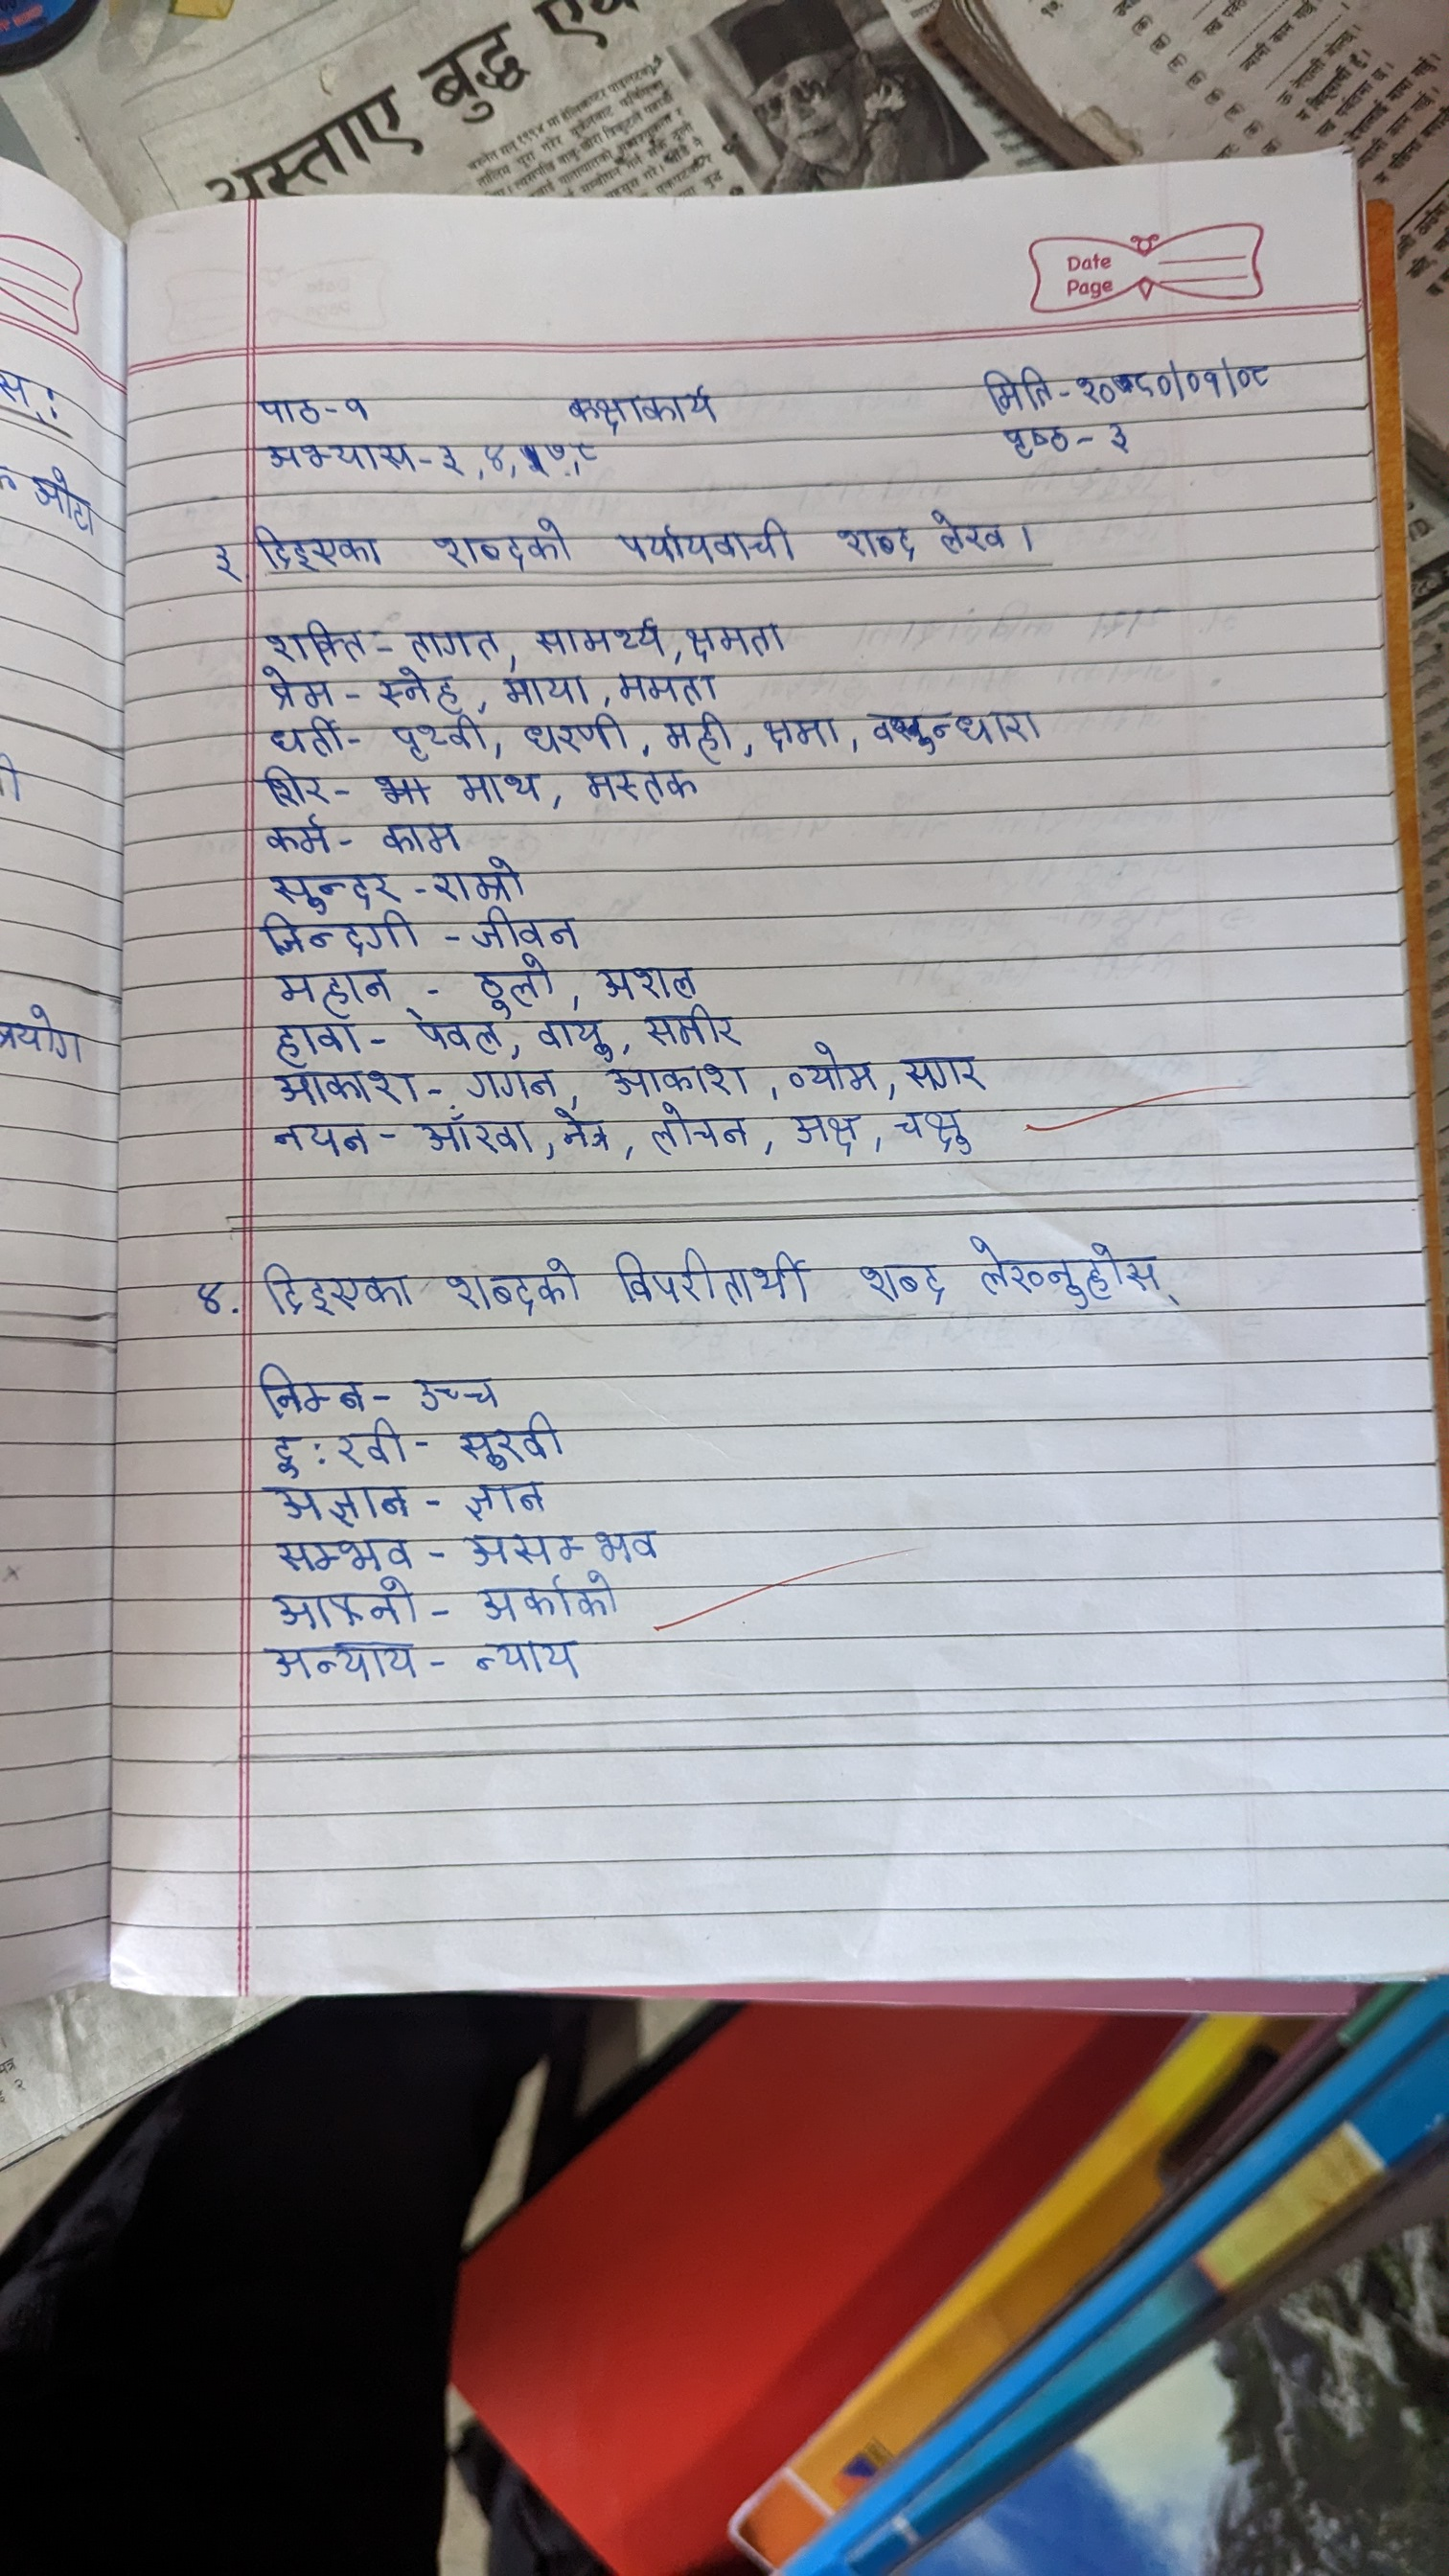text: (964, 1233, 1191, 1306), (605, 1247, 812, 1309), (860, 704, 1054, 757), (607, 517, 800, 566), (556, 382, 731, 435), (257, 1260, 412, 1318), (430, 517, 580, 575), (444, 1258, 584, 1318), (258, 1638, 425, 1688), (474, 1569, 621, 1624), (458, 1529, 663, 1568), (255, 524, 398, 579), (267, 1422, 407, 1476), (251, 913, 425, 955), (265, 1582, 421, 1628), (262, 442, 421, 487), (264, 1483, 412, 1527), (253, 1364, 372, 1419), (262, 970, 393, 1017), (533, 616, 672, 660), (1070, 356, 1178, 410), (456, 1415, 568, 1468), (464, 954, 556, 1017), (773, 1106, 872, 1164), (267, 1069, 421, 1106), (419, 1109, 531, 1161), (646, 1102, 745, 1159), (603, 1063, 754, 1100), (469, 1640, 594, 1684), (778, 1042, 883, 1095), (386, 713, 497, 763), (271, 1537, 419, 1575), (683, 616, 796, 663), (927, 501, 1019, 559), (262, 872, 405, 908), (968, 357, 1060, 412), (464, 906, 582, 948), (258, 619, 370, 662), (885, 1109, 987, 1155), (855, 1256, 947, 1307), (518, 715, 633, 755), (267, 1122, 382, 1162), (639, 1007, 743, 1051), (582, 770, 704, 807), (826, 517, 916, 566), (262, 1021, 361, 1065), (754, 711, 847, 757), (589, 962, 699, 1001), (258, 715, 349, 761), (1185, 354, 1279, 398), (433, 858, 527, 901), (370, 669, 467, 709), (462, 1479, 550, 1523), (660, 713, 736, 763), (249, 764, 334, 809), (407, 1371, 499, 1412), (373, 816, 469, 855), (462, 1065, 561, 1102), (899, 1047, 985, 1090), (403, 625, 501, 662), (453, 768, 545, 807), (547, 1109, 614, 1162), (531, 1019, 617, 1060), (612, 669, 718, 701), (497, 674, 596, 708), (258, 669, 340, 709), (416, 1019, 506, 1054), (258, 814, 340, 853), (246, 396, 334, 430), (200, 536, 241, 587), (193, 1277, 228, 1329), (433, 433, 469, 479), (577, 439, 610, 485), (479, 441, 513, 485), (538, 444, 571, 488), (341, 384, 373, 430)
